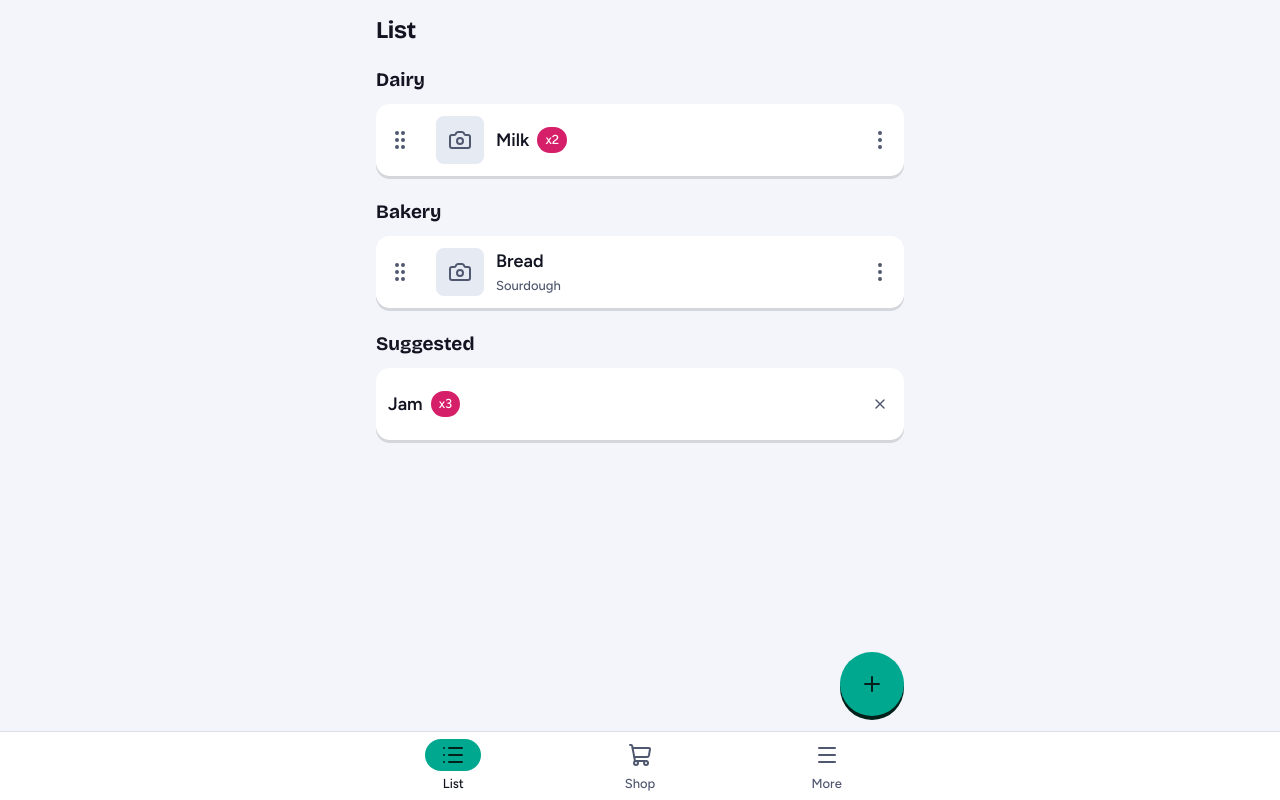
Test: Suggested items › adds a suggestion with its typical quantity and preserves purchase history
The width and height of the screenshot is (1280, 800).
Click the button with aria-label "Add Jam to list" at (405, 404), box [376,368,904,440]
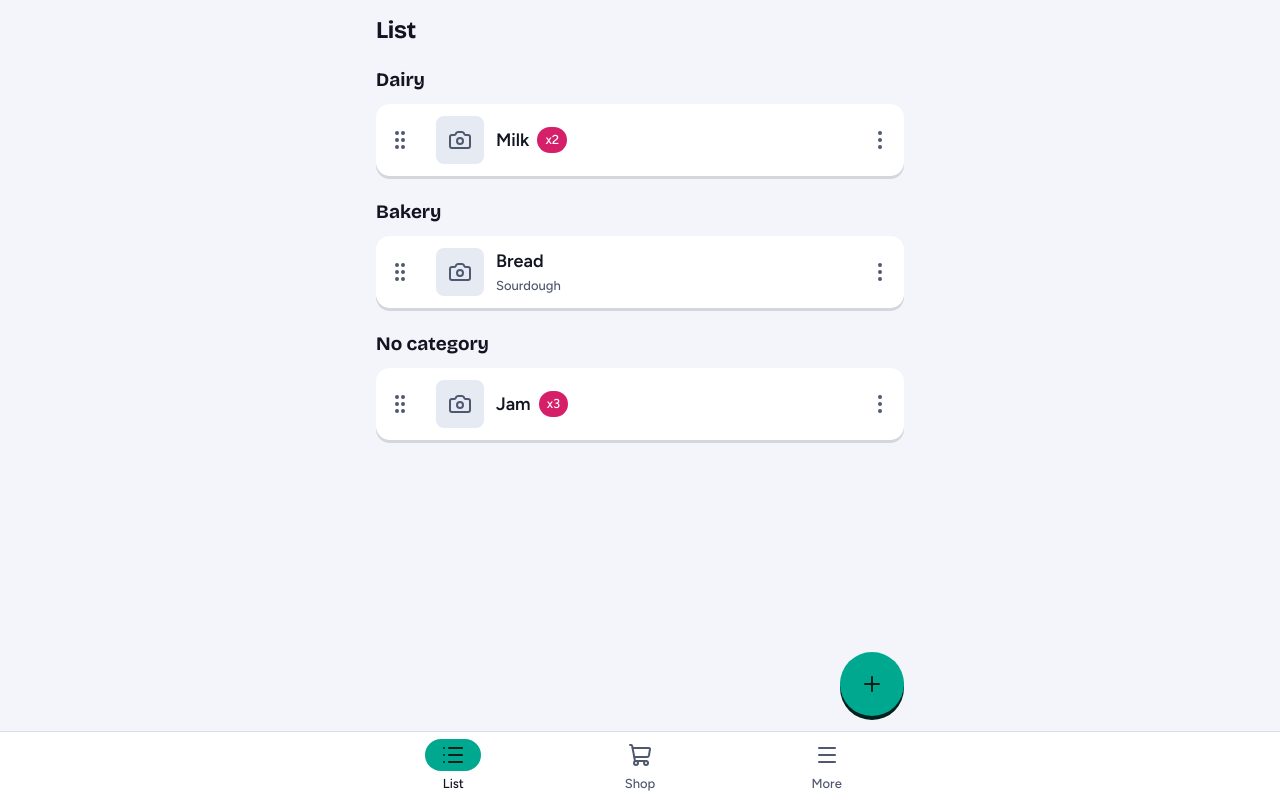
Expected: the text "Jam" is shown, [496,392,531,416]
Expected: the heading "Suggested" is gone
